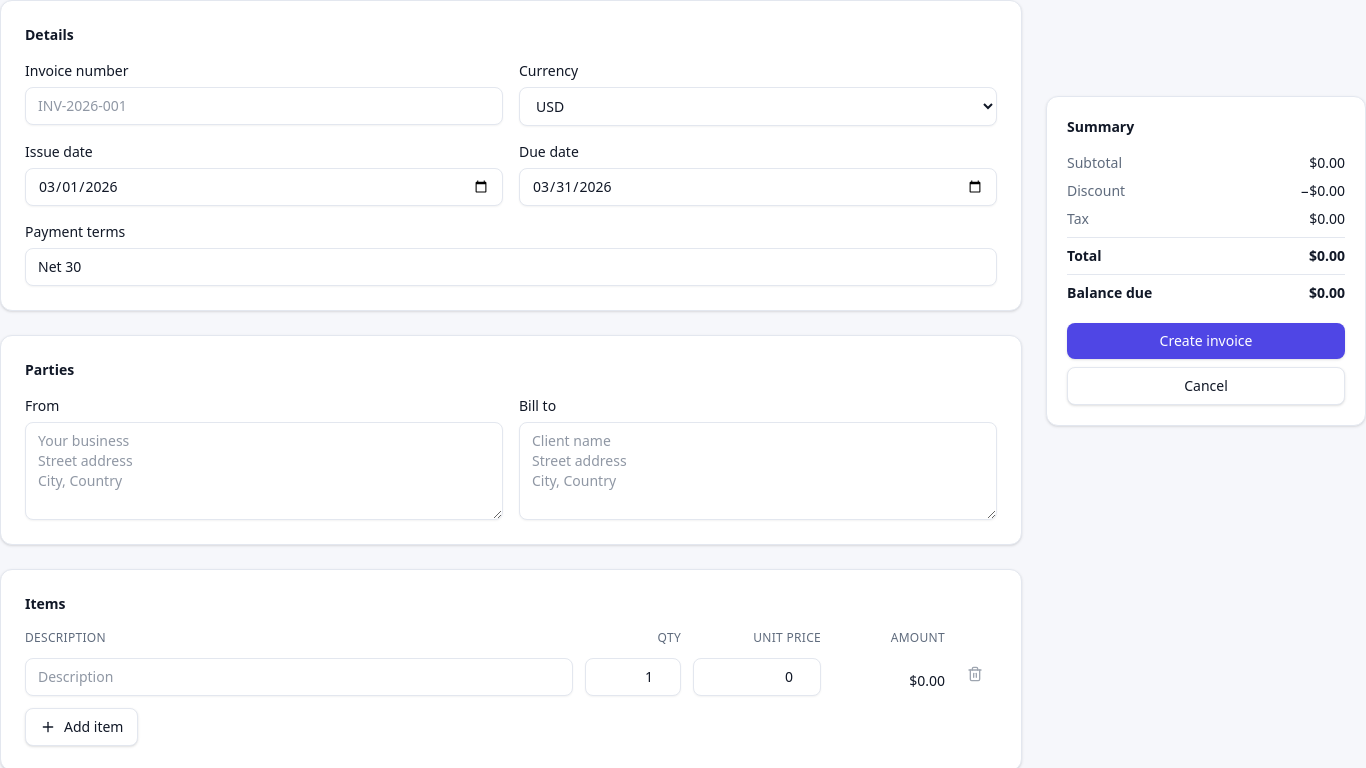
InvoiceForm › shows validation errors instead of submitting an incomplete invoice
The width and height of the screenshot is (1366, 768).
Click the button "Create invoice".
click(1206, 341)  # box x1=1067 y1=323 x2=1345 y2=359
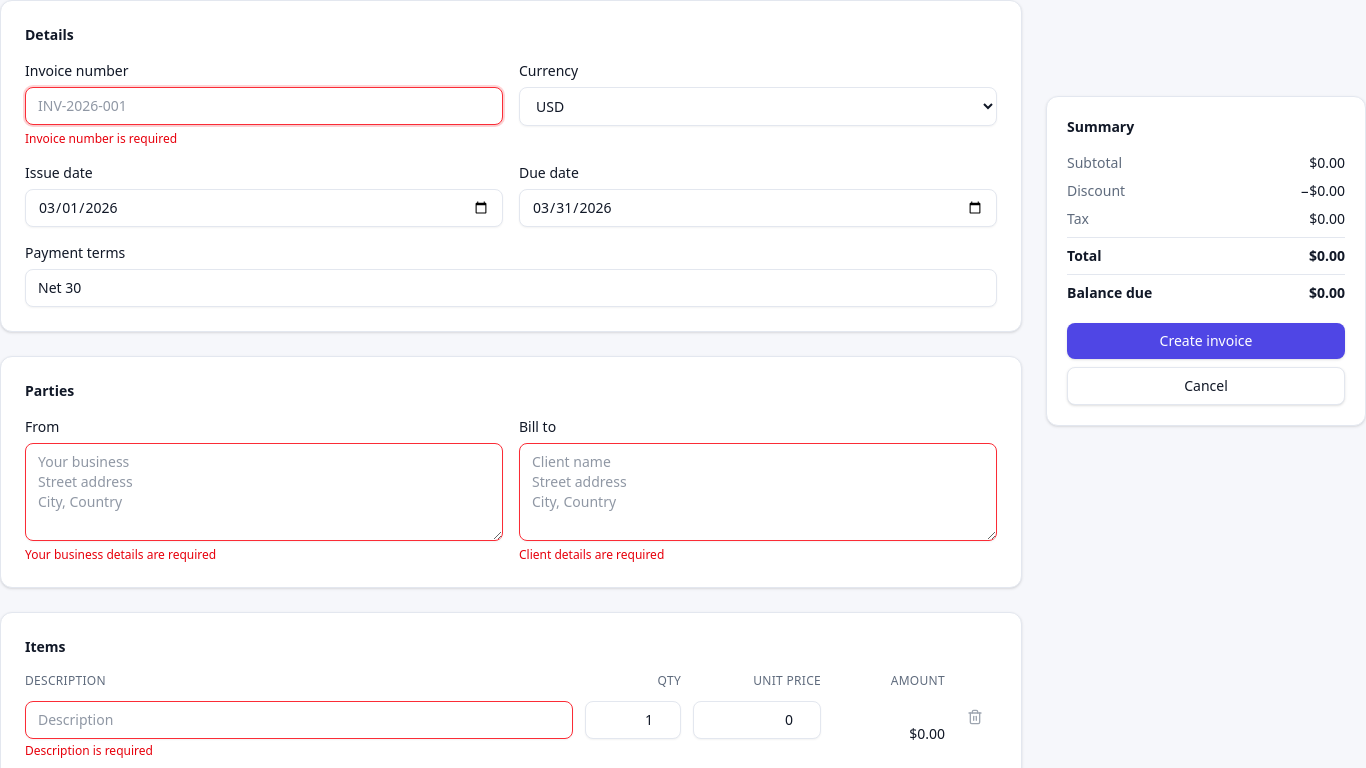
Expected: the text "Invoice number is required" is shown, x1=25 y1=130 x2=177 y2=147
Expected: the text "Your business details are required" is shown, x1=25 y1=546 x2=216 y2=563
Expected: the text "Description is required" is shown, x1=25 y1=742 x2=153 y2=759
